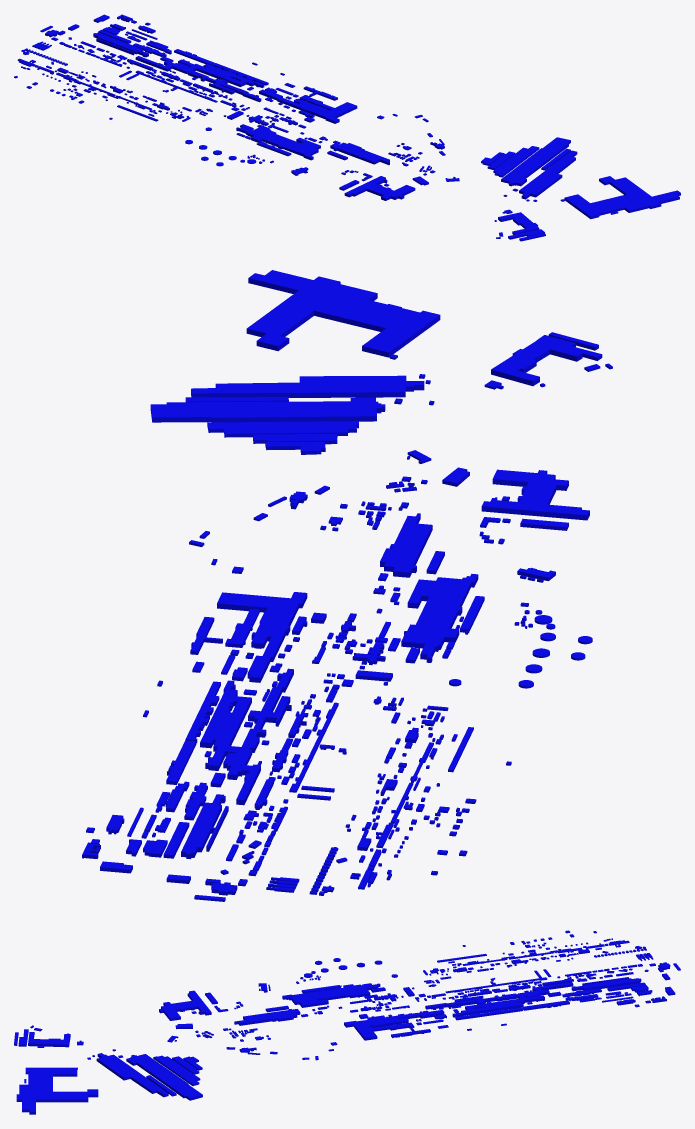
3 renders of one model, top to bottom at view 1: azimuth 30°, elevation 25°; view 2: azimuth 150°, elevation 25°; view 3: azimuth 270°, elevation 25°, orthographic. The views are drawn at different scales.
Visible parts, largest first — view 1: 1984.006; view 2: 1984.006; view 3: 1984.006.
Part boxes in pixels (left/top/right/bottom): 1984.006: left=14, top=14, right=680, bottom=241; 1984.006: left=82, top=270, right=612, bottom=901; 1984.006: left=14, top=930, right=680, bottom=1114.
Bounding box in the file's own units: 2335 × 15.24 × 3596.
